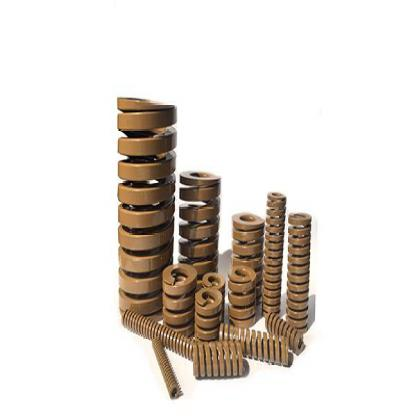FOD: (116, 88, 177, 331), (177, 167, 224, 281), (120, 306, 196, 362), (228, 211, 265, 306), (218, 322, 294, 368), (284, 210, 311, 334), (261, 190, 287, 316), (160, 260, 196, 340), (190, 336, 250, 381), (263, 309, 308, 358), (150, 332, 181, 402), (226, 264, 257, 330), (195, 283, 224, 343)
